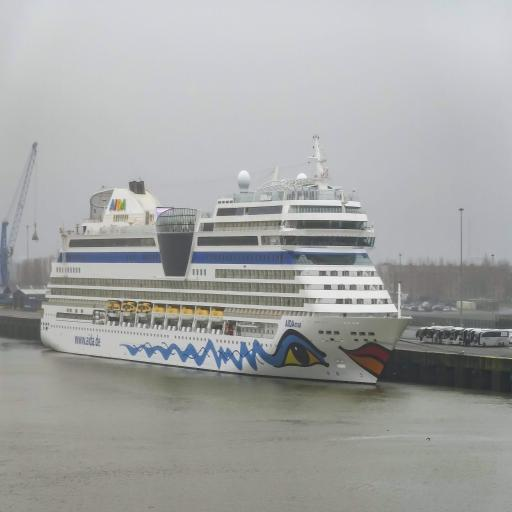cruises: (33, 127, 413, 400)
